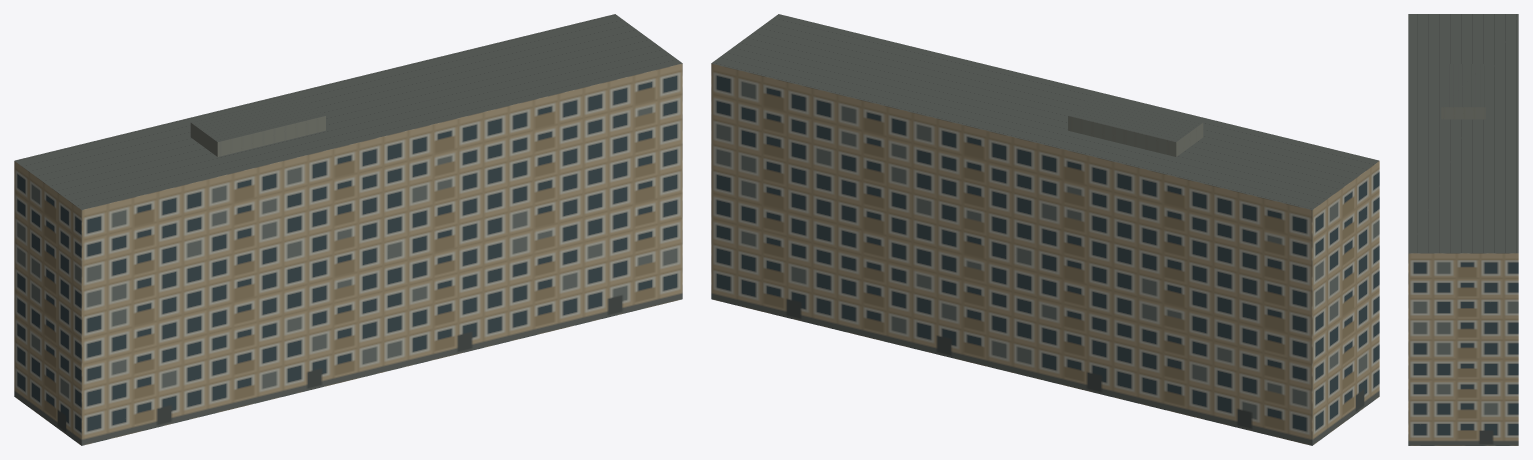
The model's file is kyiv_panel_09_02.obj.
The picture shows the model from 3 angles, left to right: view 1: azimuth 30°, elevation 25°; view 2: azimuth 150°, elevation 25°; view 3: azimuth 270°, elevation 25°; orthographic projection. The views are drawn at different scales.
Visible parts, largest first — view 1: kyiv_panel_09_02; view 2: kyiv_panel_09_02; view 3: kyiv_panel_09_02.
Boxes of the visible parts, left/top/right/bottom form: kyiv_panel_09_02: left=14, top=14, right=682, bottom=445; kyiv_panel_09_02: left=711, top=14, right=1379, bottom=445; kyiv_panel_09_02: left=1408, top=14, right=1518, bottom=445.
Size of the model in its own units: 72 by 28.7 by 14.
Materials: 1 (1 with a texture image).
